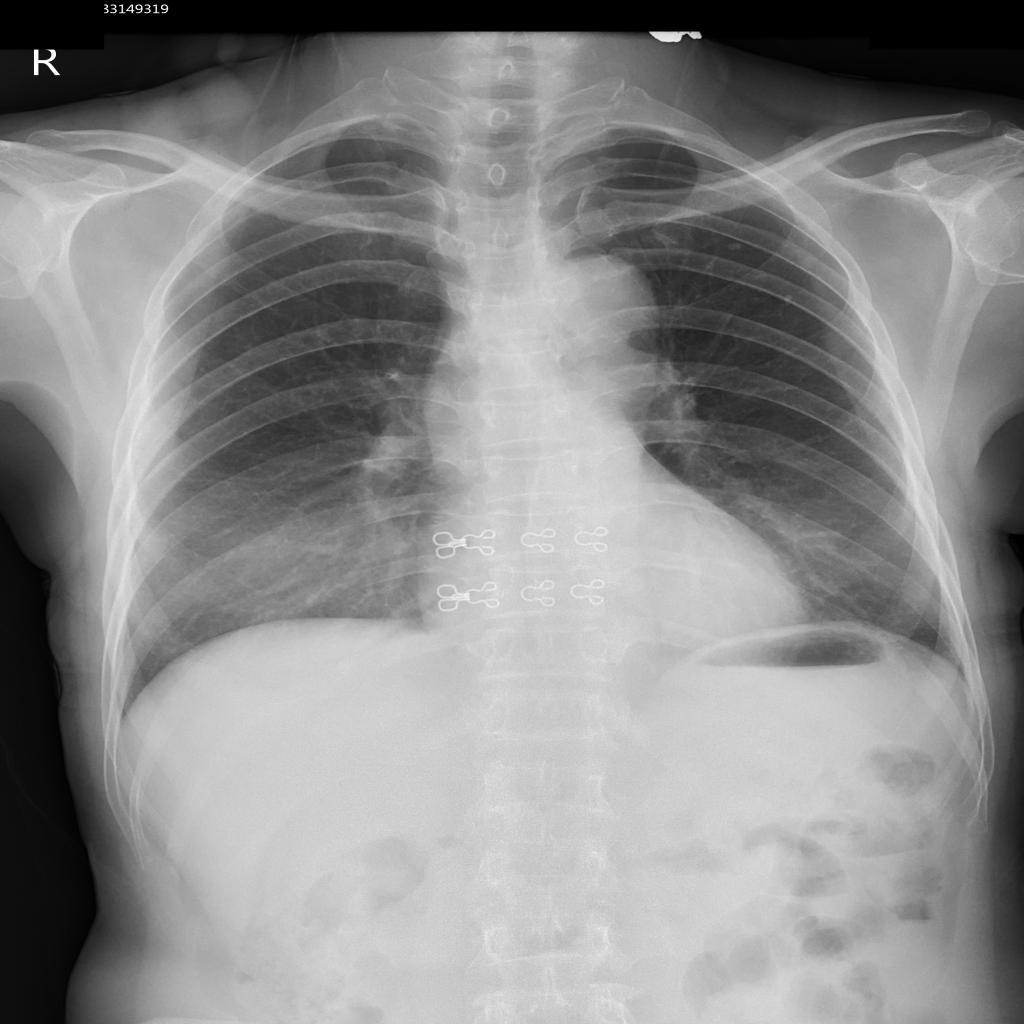Nodule: (726, 243, 743, 251), (785, 295, 794, 302)
